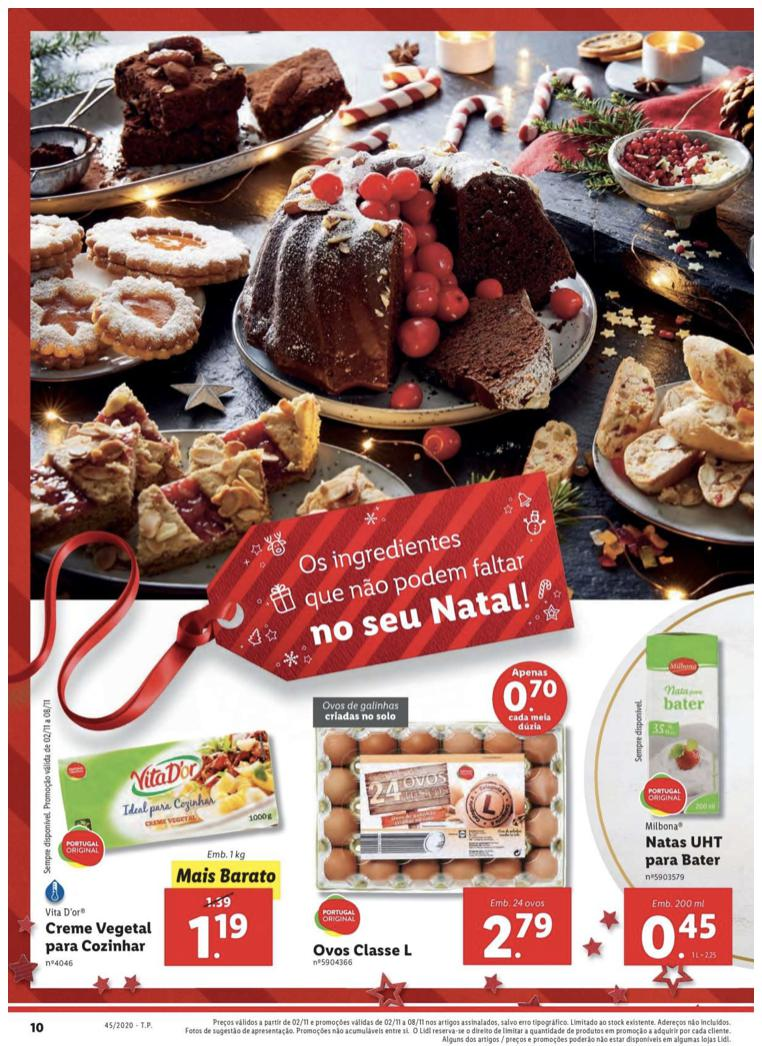name: (44, 916, 155, 954), (643, 833, 727, 871), (312, 940, 419, 958)
price: (470, 910, 555, 962), (638, 910, 719, 962), (192, 909, 251, 962)
product: (294, 662, 575, 971), (35, 719, 288, 974), (582, 622, 755, 968)
